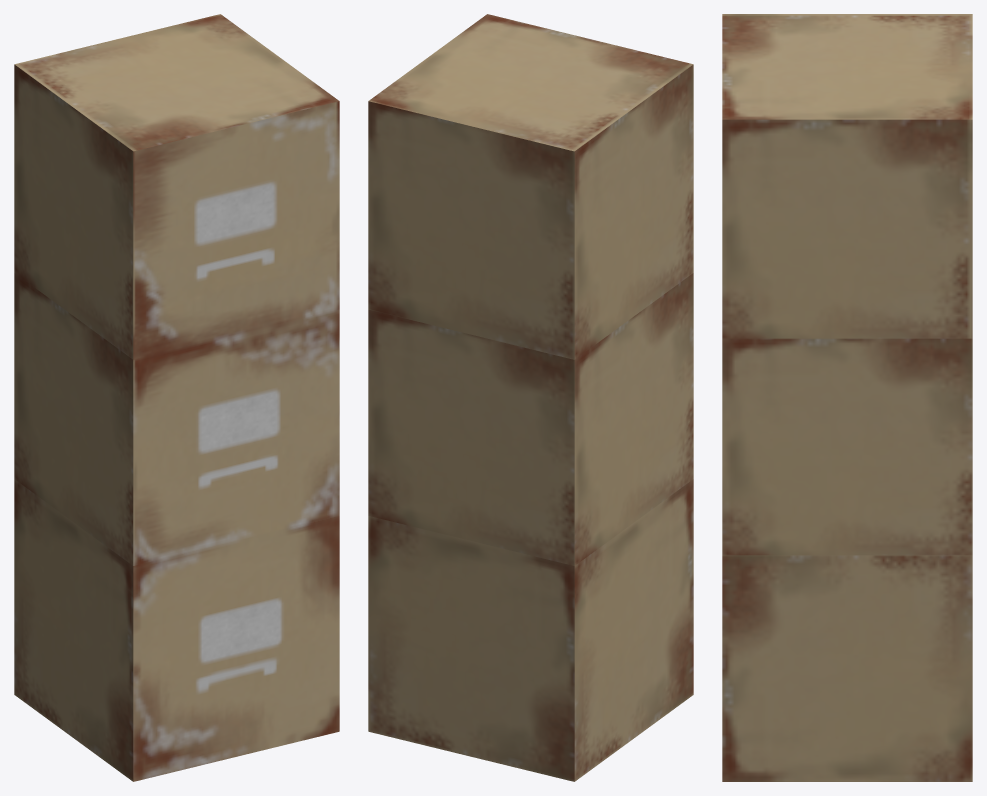
The model's file is MKU_file_cabinet_threetall_fin.fbx.
3 views of the same model, side by side, from view 1: azimuth 30°, elevation 25°; view 2: azimuth 150°, elevation 25°; view 3: azimuth 270°, elevation 25° (orthographic). The views are drawn at different scales.
Visible parts, largest first — view 1: Cube; view 2: Cube; view 3: Cube.
Part boxes in pixels (bbox=[...]): Cube: bbox=[14, 14, 339, 781]; Cube: bbox=[368, 14, 693, 781]; Cube: bbox=[722, 14, 972, 781].
Size of the model in its own units: 200 by 584 by 200.
